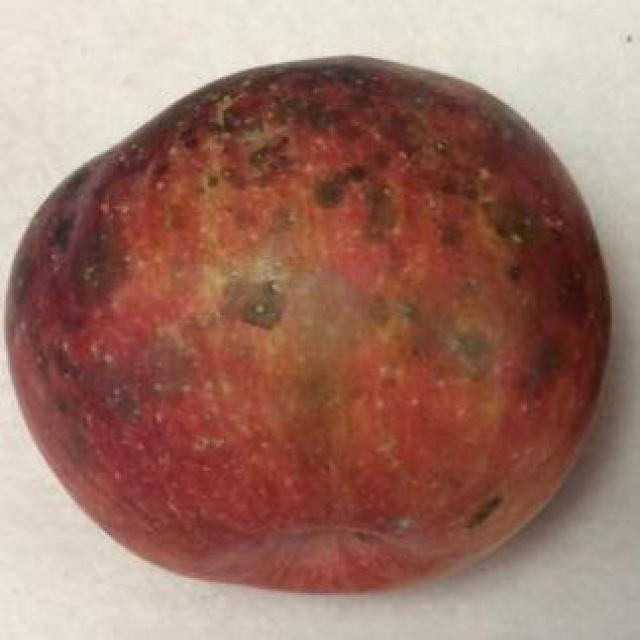Rotten: (22, 51, 606, 582)
